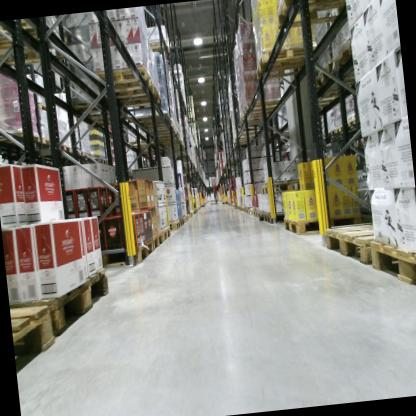pallet: (8, 265, 119, 341), (0, 18, 74, 71), (322, 218, 396, 270), (10, 304, 59, 367), (367, 234, 416, 294), (283, 209, 363, 243), (251, 43, 321, 80), (97, 64, 159, 102), (312, 57, 371, 93), (98, 84, 164, 113), (98, 236, 155, 269), (329, 37, 368, 79), (258, 177, 303, 198), (242, 97, 289, 117), (236, 108, 282, 127), (263, 207, 297, 224), (55, 137, 79, 160), (15, 128, 39, 150), (147, 41, 172, 57), (37, 132, 59, 149), (148, 228, 164, 249), (164, 219, 181, 232), (160, 226, 172, 241), (334, 123, 346, 136), (323, 129, 336, 139), (346, 117, 356, 129), (258, 209, 265, 223), (177, 217, 185, 227), (252, 208, 259, 219), (243, 205, 251, 214), (249, 208, 254, 215)
pallet_truck: (221, 179, 237, 203), (195, 181, 207, 208)
